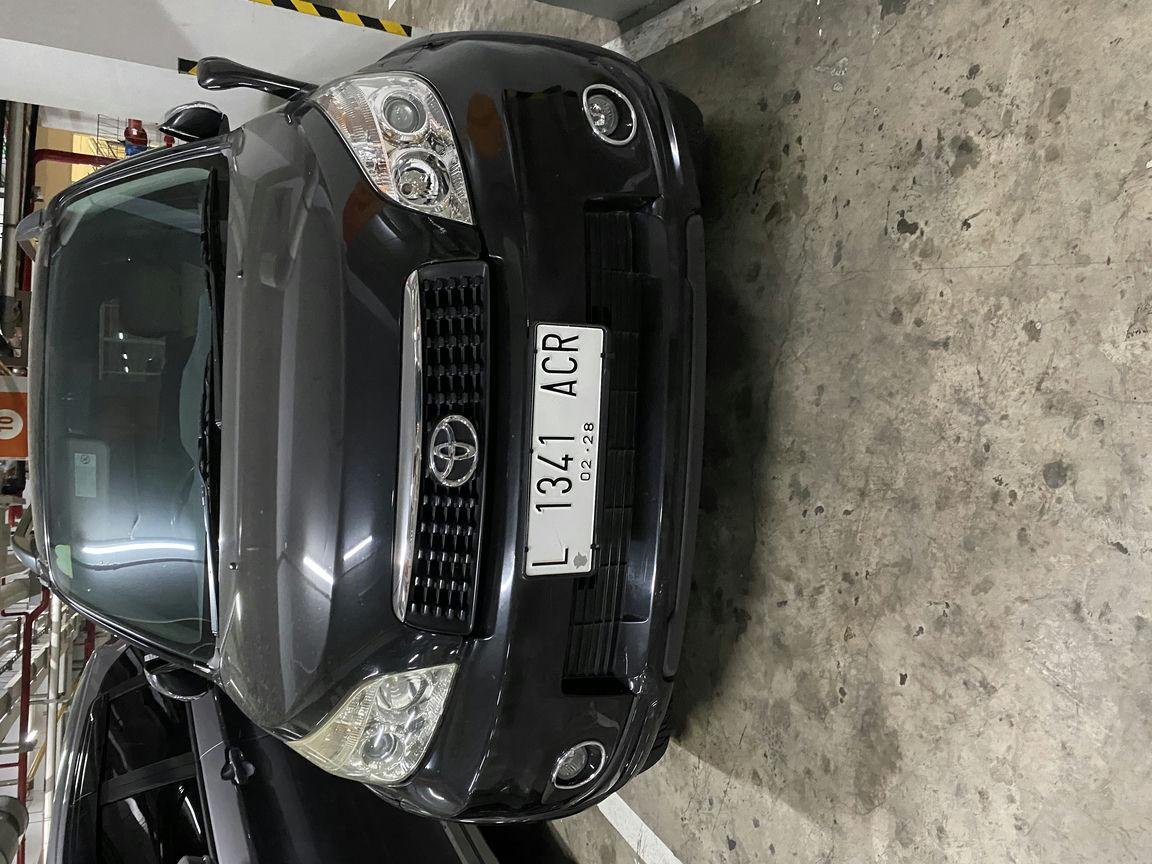plat: (384, 395, 720, 454)
